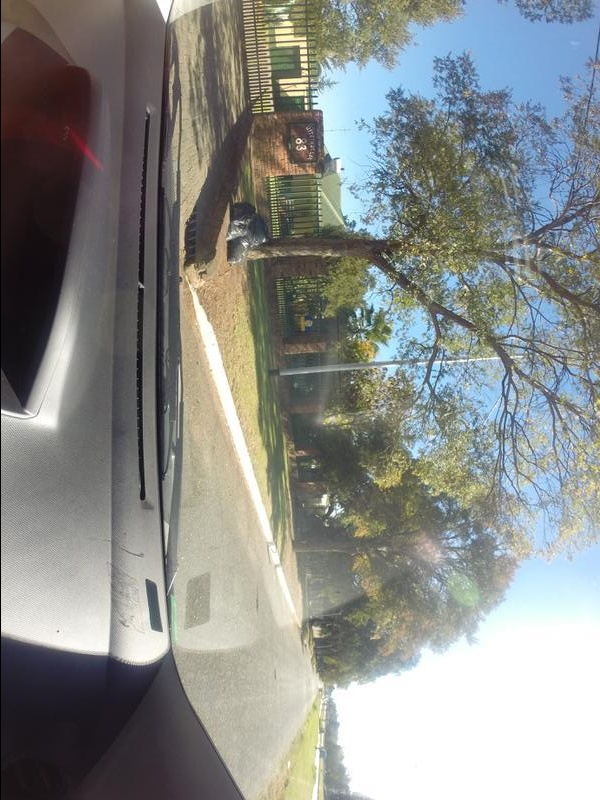pothole: (256, 585, 261, 612), (270, 670, 278, 684)
